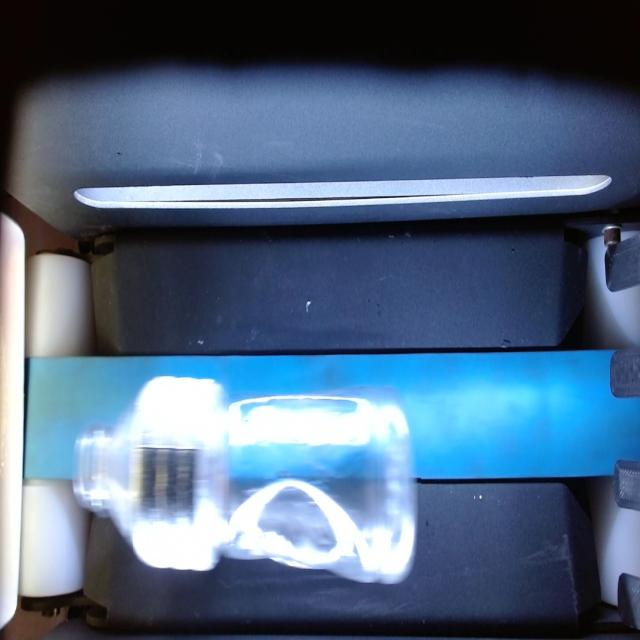bottom: (230, 395, 421, 590)
label: (134, 369, 226, 577)
neck: (70, 405, 143, 533)
